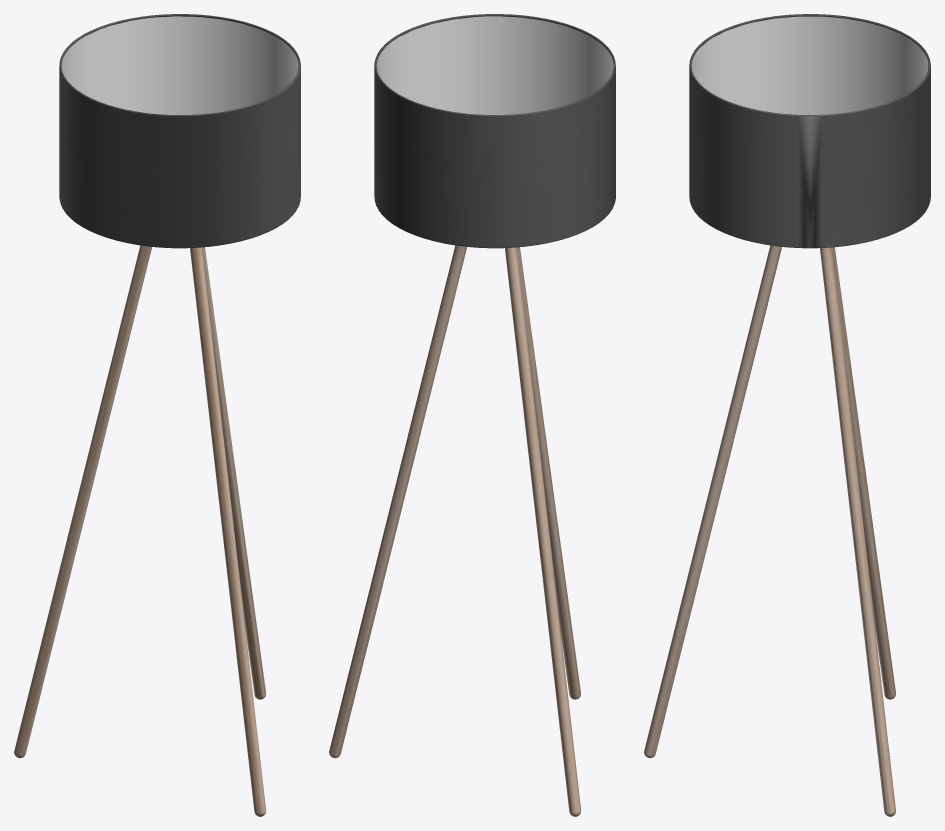
The model's file is lamp-v2.glb.
3 views of the same model, side by side, from view 1: azimuth 30°, elevation 25°; view 2: azimuth 150°, elevation 25°; view 3: azimuth 270°, elevation 25° (orthographic).
Visible parts, largest first — view 1: LAMP_SHADE_GRAY, STEEL_WHITE, WOOD; view 2: LAMP_SHADE_GRAY, STEEL_WHITE, WOOD; view 3: LAMP_SHADE_GRAY, STEEL_WHITE, WOOD.
Boxes of the visible parts, left/top/right/bottom form: LAMP_SHADE_GRAY: left=59, top=14, right=300, bottom=248; STEEL_WHITE: left=61, top=16, right=298, bottom=114; WOOD: left=14, top=245, right=266, bottom=816; LAMP_SHADE_GRAY: left=374, top=14, right=615, bottom=248; STEEL_WHITE: left=376, top=16, right=613, bottom=114; WOOD: left=329, top=245, right=581, bottom=816; LAMP_SHADE_GRAY: left=689, top=14, right=930, bottom=248; STEEL_WHITE: left=691, top=16, right=928, bottom=114; WOOD: left=644, top=245, right=895, bottom=816.
Size of what is drawn, in the model's own units: 58.12 by 154 by 57.64.
5 materials, 5 textured.
